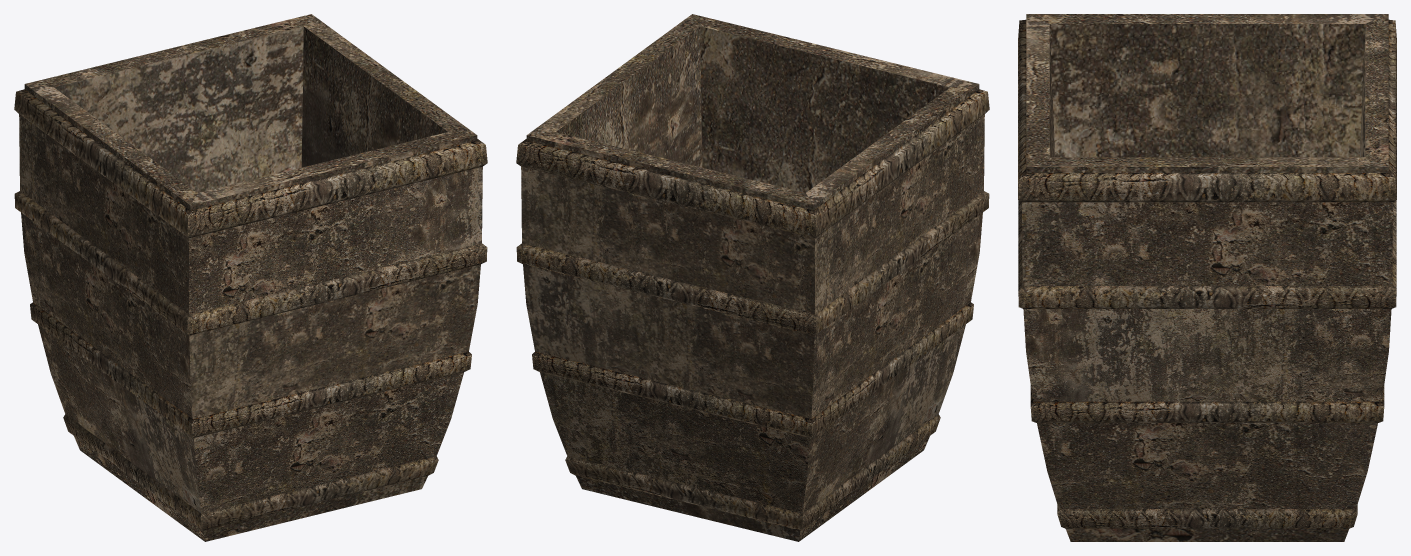
The model's file is materials_5_pot_4.fbx.
3 renders of one model, left to right at view 1: azimuth 30°, elevation 25°; view 2: azimuth 150°, elevation 25°; view 3: azimuth 270°, elevation 25°, orthographic. The views are drawn at different scales.
Parts seen in each view (by area): view 1: materials_5_pot_4; view 2: materials_5_pot_4; view 3: materials_5_pot_4.
Boxes of the visible parts, x1=… form: materials_5_pot_4: x1=14, y1=14, x2=487, y2=541; materials_5_pot_4: x1=516, y1=14, x2=989, y2=541; materials_5_pot_4: x1=1018, y1=14, x2=1396, y2=541.
Bounding box in the file's own units: 25.69 × 29.44 × 25.69.
